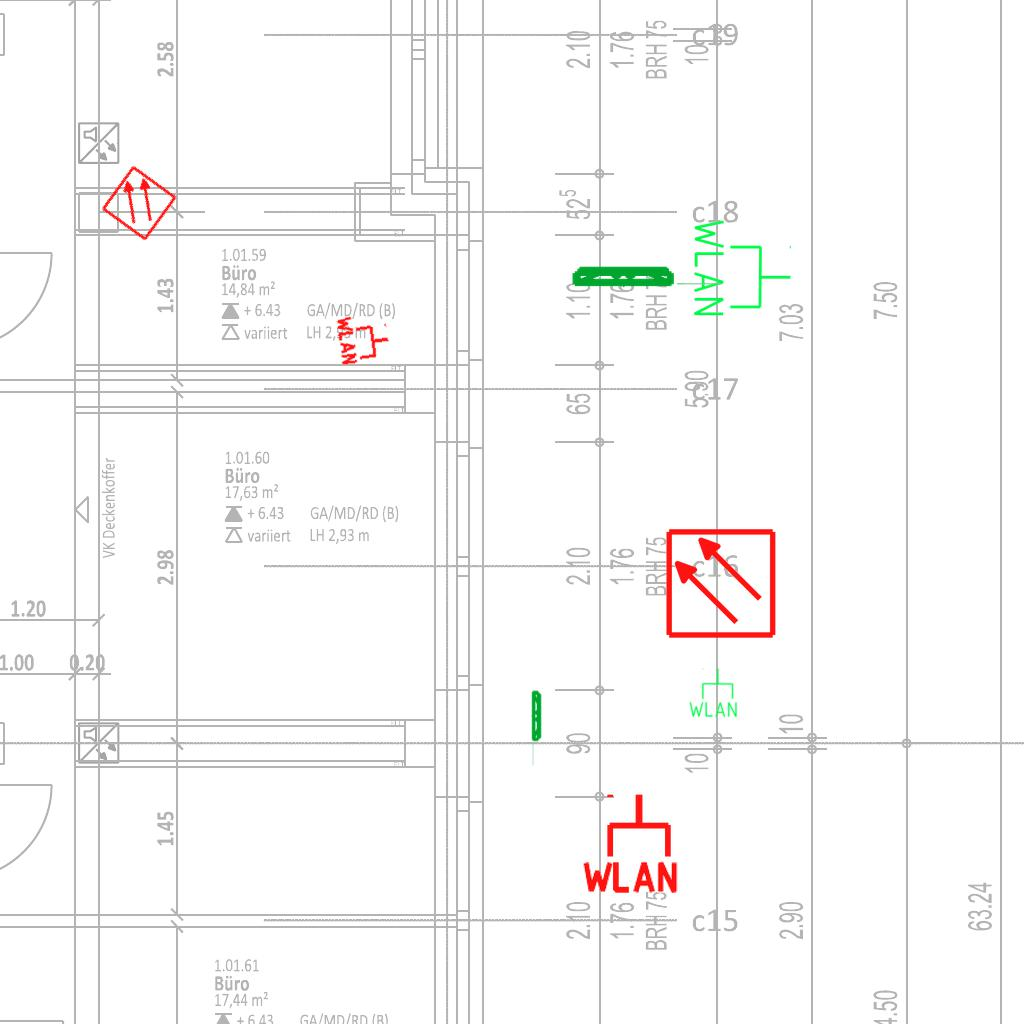RMO_Rauchmelder_optischer: (664, 527, 777, 640), (99, 163, 179, 243)
Sicherheitsleuchte_Wandeinbau: (569, 263, 728, 288), (531, 689, 543, 768)
WLAN: (690, 215, 794, 320), (578, 790, 682, 895), (334, 308, 394, 368), (687, 667, 739, 719)
